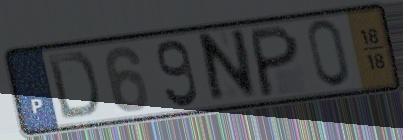0: (304, 17, 353, 92)
6: (102, 43, 150, 115)
9: (156, 38, 200, 108)
D: (44, 50, 101, 122)
N: (198, 26, 260, 108)
P: (249, 22, 301, 99)
